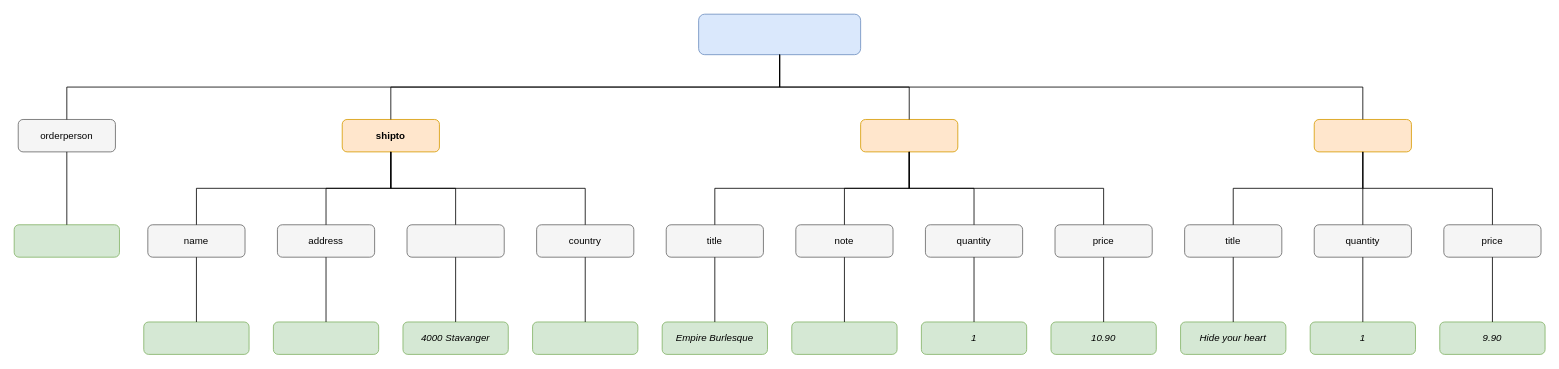
This 1559x369 diagram has some shape labels left out. The shapes that lost their labels are listed below. From the top down, each one's centre as x and y in pixels, then its label:
[779,34]: shiporder @orderid="889923"
[909,135]: item (1)
[1362,135]: item (2)
[66,240]: John Smith
[455,240]: city
[196,337]: Ola Nordmann
[326,337]: Langgt 23
[585,337]: Norway
[844,337]: Special Edition
